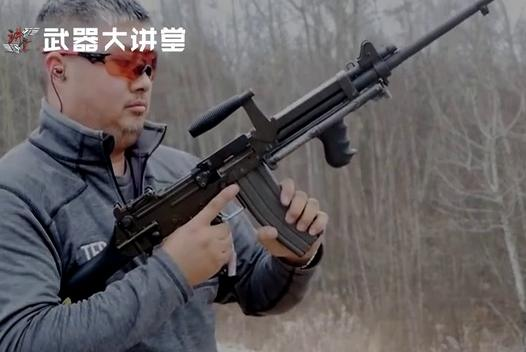gun: (1, 0, 526, 352)
